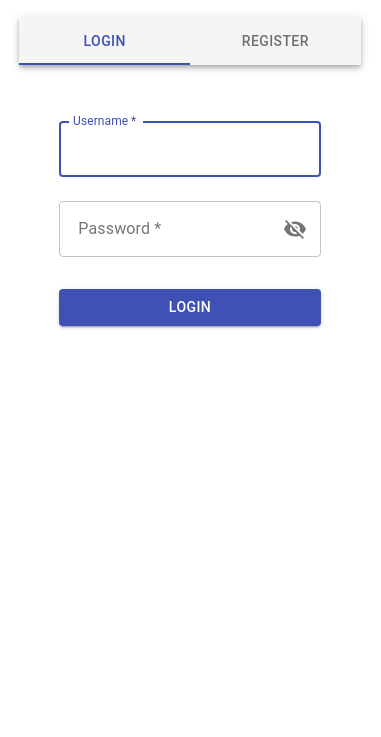
Scenario: Login Form › warning to fill all the details when username is filled but password is empty
Type "user23234" into the field labelled "Username *".
click(190, 149); type("user23234")  # box x1=59 y1=121 x2=321 y2=177
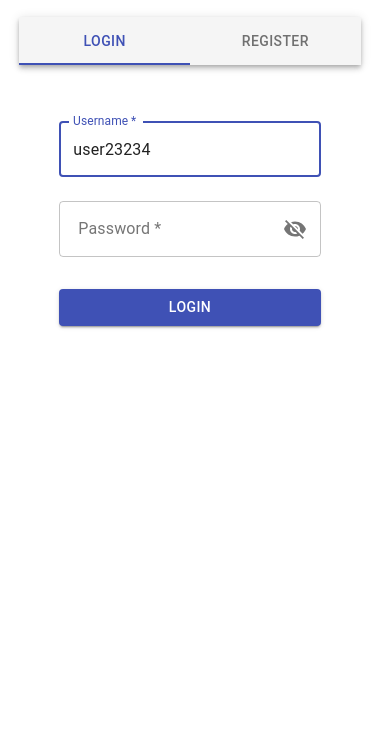
Click the button with test id "loginButton".
click(190, 307)  # box x1=59 y1=289 x2=321 y2=326
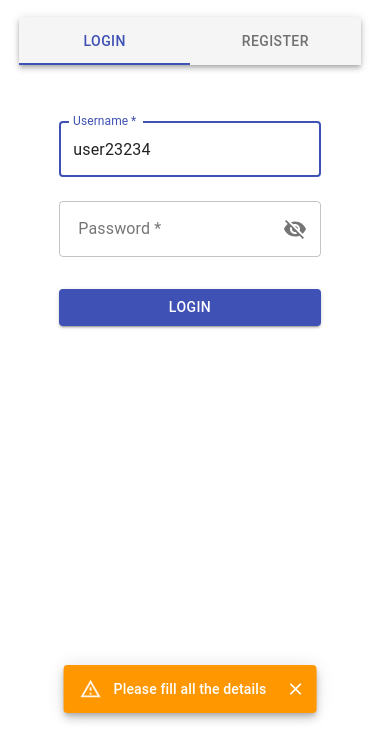
Check: the text "Please fill all the details" is shown, box x1=114 y1=681 x2=266 y2=697
